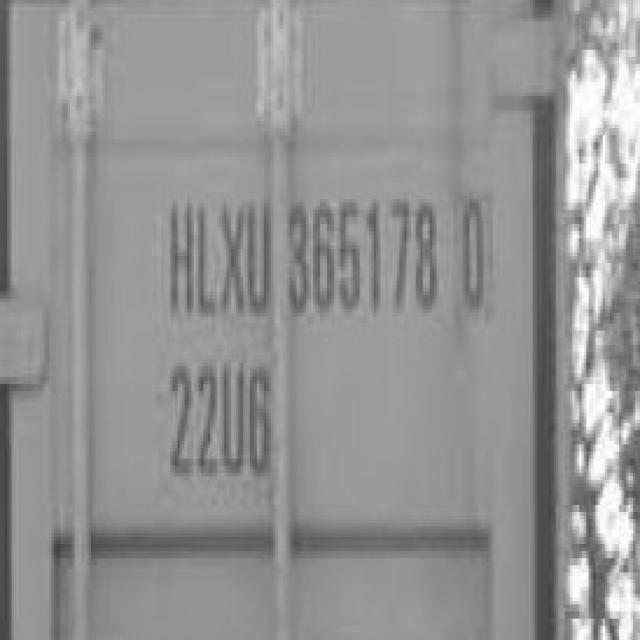dv: (451, 194, 493, 326)
owner: (156, 183, 270, 335)
serial: (279, 188, 442, 334)
size: (157, 348, 283, 482)
